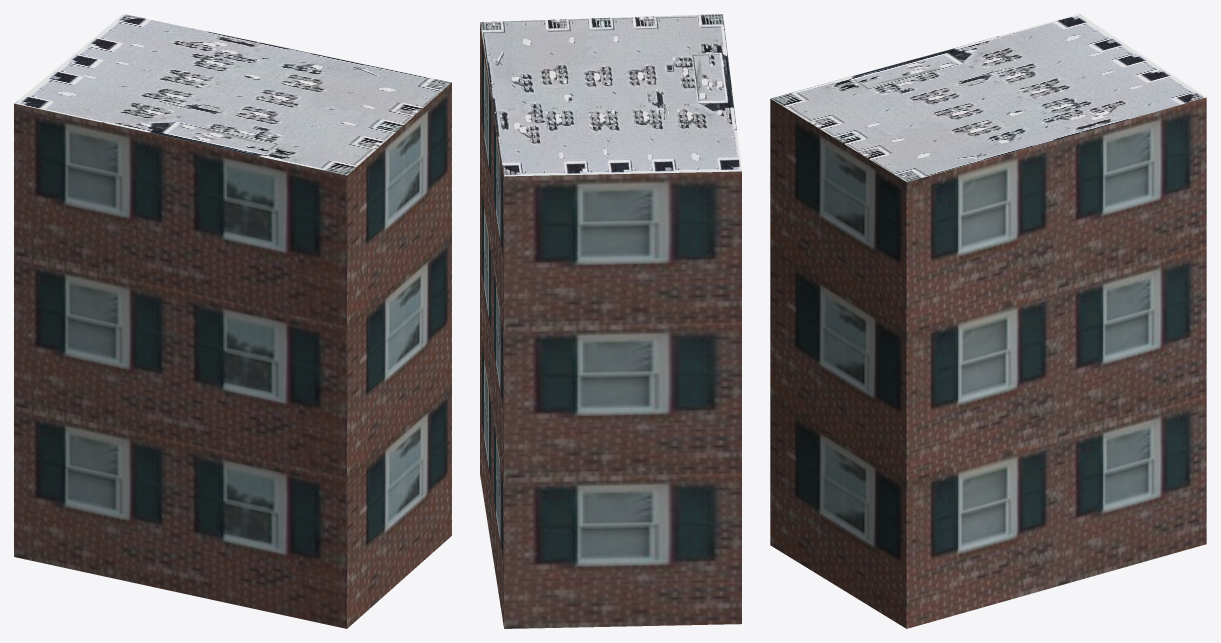
File: ResTex__1489.fbx
3 renders of one model, left to right at view 1: azimuth 30°, elevation 25°; view 2: azimuth 150°, elevation 25°; view 3: azimuth 270°, elevation 25°, orthographic.
Visible parts, largest first — view 1: CityEngineMaterial_14_m, CityEngineMaterial_2_m; view 2: CityEngineMaterial_14_m, CityEngineMaterial_2_m; view 3: CityEngineMaterial_14_m, CityEngineMaterial_2_m.
Part boxes in pixels (bbox=[...]): CityEngineMaterial_14_m: bbox=[14, 82, 451, 628]; CityEngineMaterial_2_m: bbox=[14, 14, 451, 175]; CityEngineMaterial_14_m: bbox=[480, 23, 741, 628]; CityEngineMaterial_2_m: bbox=[480, 14, 741, 176]; CityEngineMaterial_14_m: bbox=[770, 97, 1206, 628]; CityEngineMaterial_2_m: bbox=[770, 14, 1206, 182].
Size of the model in its own units: 7.27 by 9 by 7.97.
2 materials, 2 textured.
